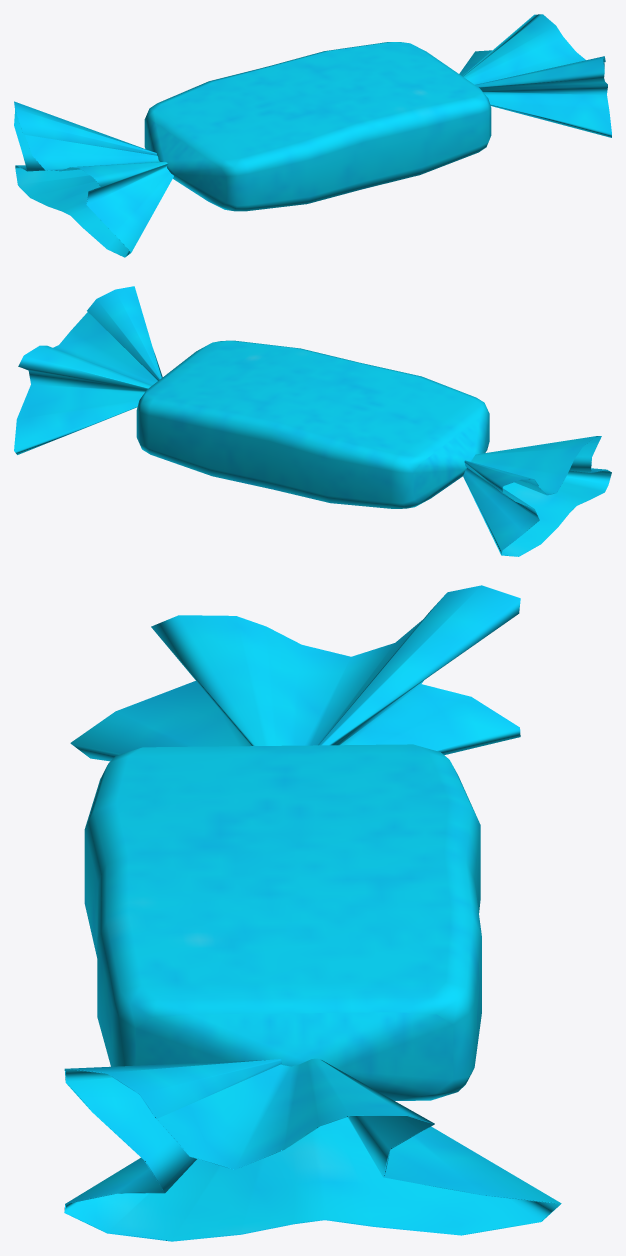
Rendered from Caramelo.fbx.
3 views of the same model, one above another, from view 1: azimuth 30°, elevation 25°; view 2: azimuth 150°, elevation 25°; view 3: azimuth 270°, elevation 25° (orthographic). The views are drawn at different scales.
Parts seen in each view (by area): view 1: Diorama.027; view 2: Diorama.027; view 3: Diorama.027.
Boxes of the visible parts, box(x1,y1,x2,y2) form: Diorama.027: box(14, 14, 611, 257); Diorama.027: box(14, 286, 611, 556); Diorama.027: box(64, 585, 561, 1241).
Size of the model in its own units: 88.53 by 13.49 by 36.51.
